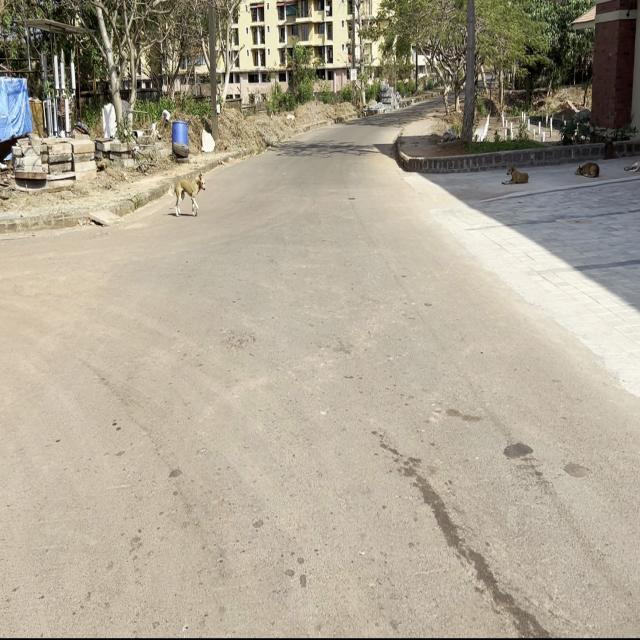Road: (1, 122, 640, 640)
